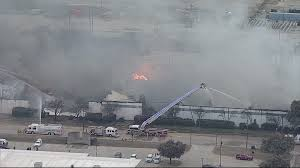smoke: (1, 1, 300, 100)
